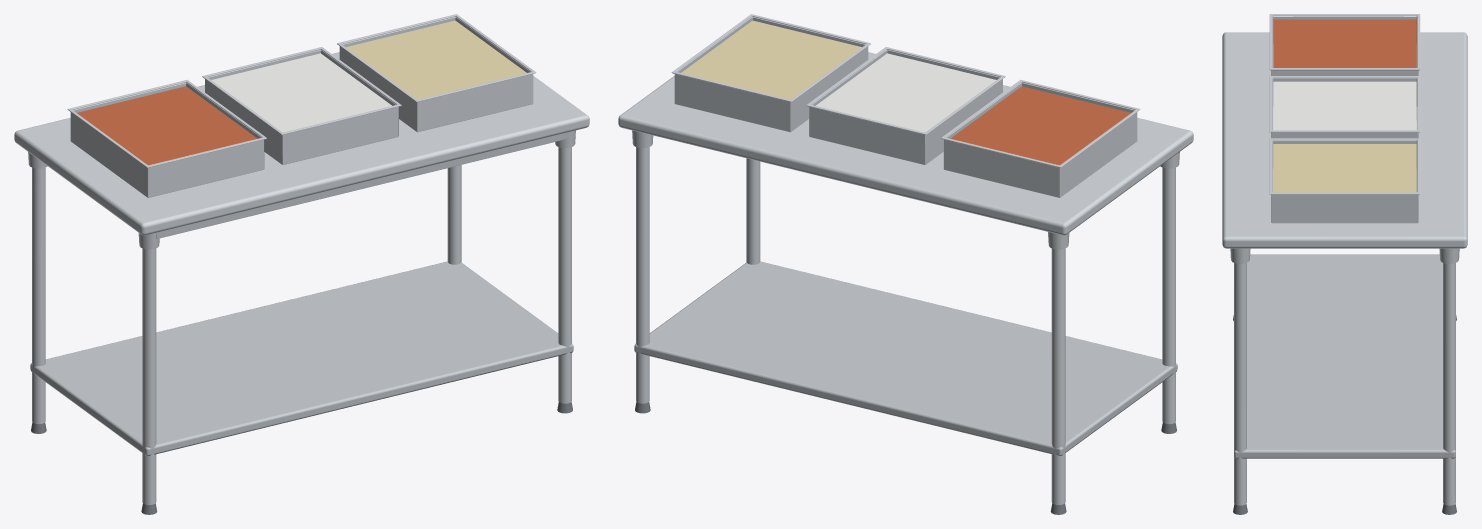
File: breading-station.glb
3 views of the same model, side by side, from view 1: azimuth 30°, elevation 25°; view 2: azimuth 150°, elevation 25°; view 3: azimuth 270°, elevation 25° (orthographic). The views are drawn at different scales.
Parts seen in each view (by area): view 1: BODY, FOOD; view 2: BODY, FOOD; view 3: BODY, FOOD.
Part boxes in pixels (<box>): BODY: <box>14,14,589,514</box>; FOOD: <box>77,20,526,165</box>; BODY: <box>618,14,1193,514</box>; FOOD: <box>681,20,1130,165</box>; BODY: <box>1222,14,1467,514</box>; FOOD: <box>1273,19,1416,192</box>.
Size of the model in its own units: 1.5 by 1.05 by 0.7501.
